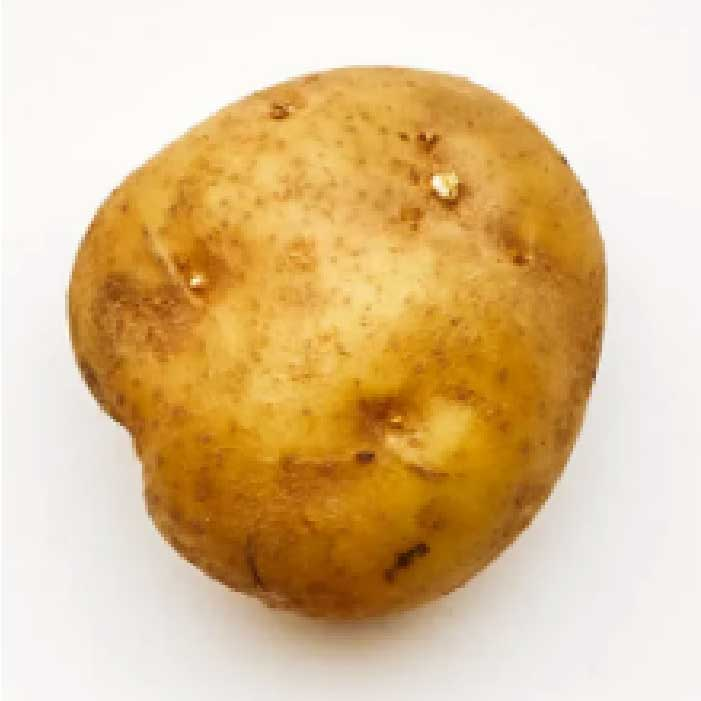Kartoffel: (70, 67, 607, 620)
